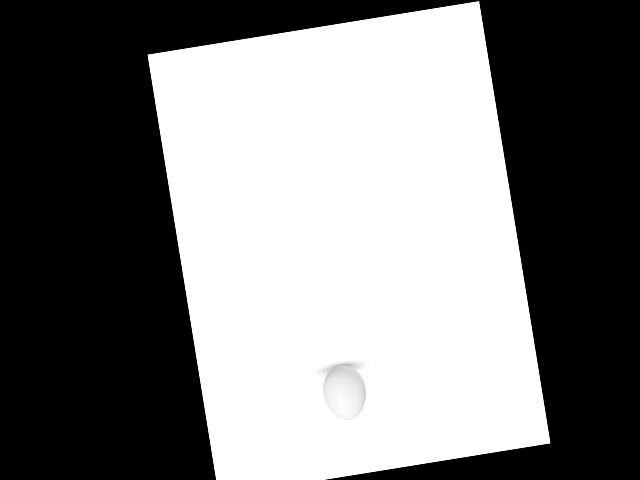egg: (319, 362, 369, 423)
